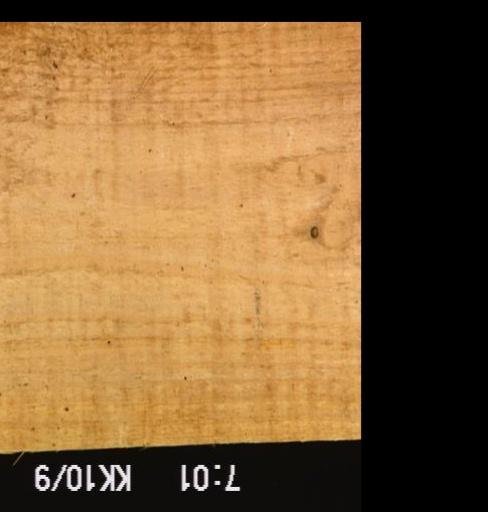dry_knot: (309, 224, 319, 239)
